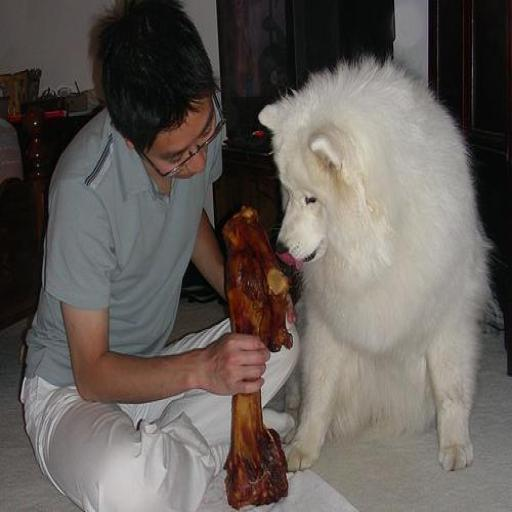dog_face: (260, 56, 438, 270)
